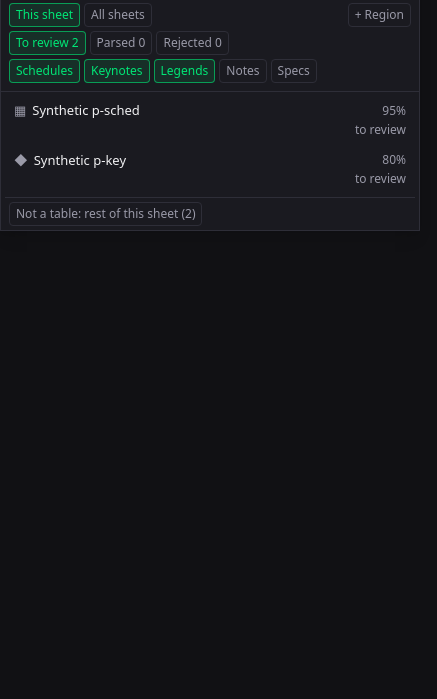
it: click paths (PLAN §3.3) › A2 · two-block schedule: the continuation box re-parses with parts, a part-2 cell is edited, Accept sends parts + ops
Later steps or results of the test are not shown.
Click the button "▦ Synthetic p-sched 95% to review": (86, 110) left=5, top=96, right=415, bottom=144
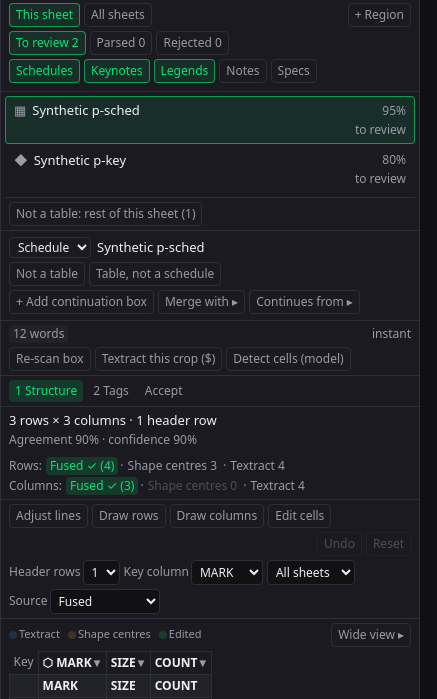
expect the text "3 rows × 3 columns · 1 header row" is shown: met, box left=9, top=411, right=217, bottom=429
Click the button "+ Add continuation box": (81, 302) left=9, top=290, right=154, bottom=314
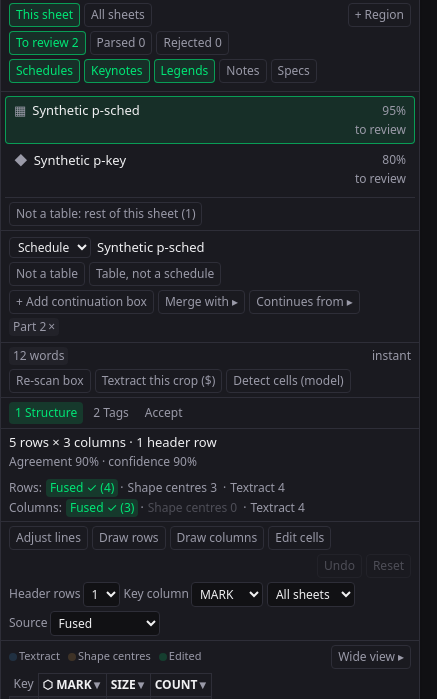
expect the text "5 rows × 3 columns · 1 header row" is shown: met, box left=9, top=433, right=217, bottom=451
Click the button "Edit cells": (300, 538) left=268, top=526, right=331, bottom=550
(page scrolled)
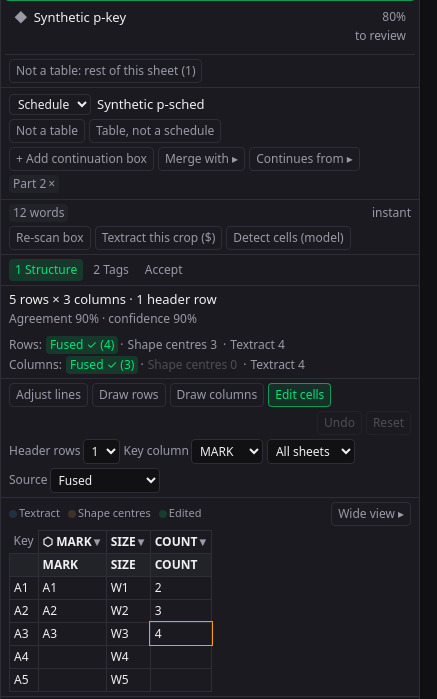
Click the cell "W5": (128, 680) left=106, top=668, right=150, bottom=691
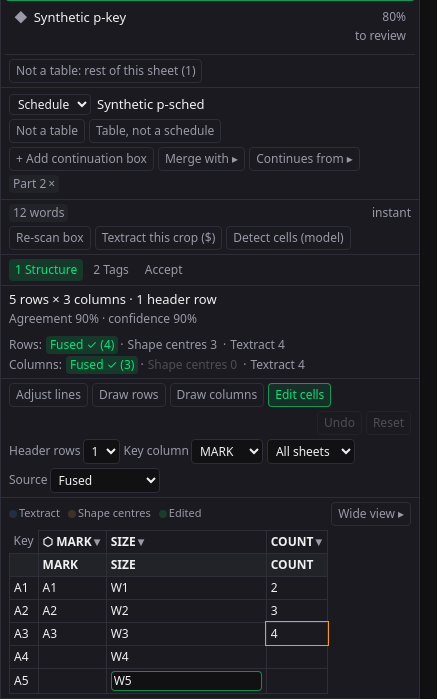
Replace the text in the field named "Cell r6 SIZE" with "W5B": (186, 680) left=111, top=670, right=262, bottom=690
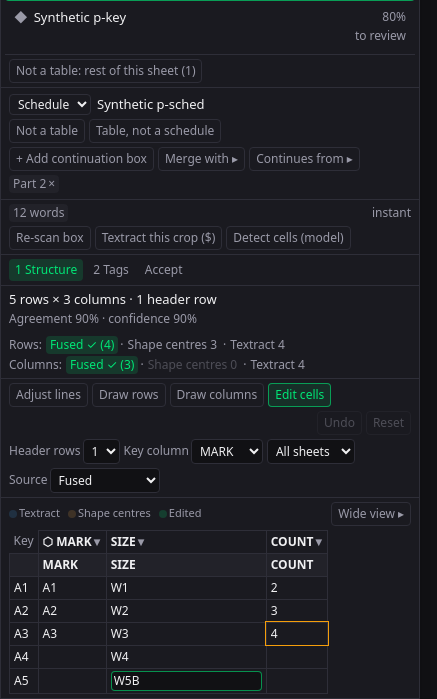
Press Enter in the field named "Cell r6 SIZE", box left=111, top=670, right=262, bottom=690
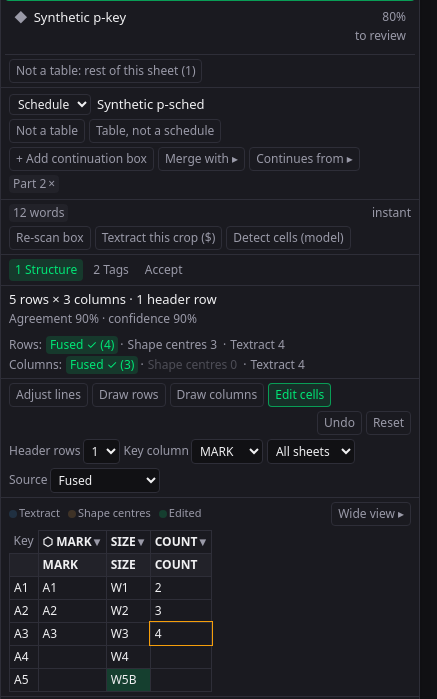
expect the cell "W5B" is shown: met, box left=106, top=668, right=150, bottom=691
